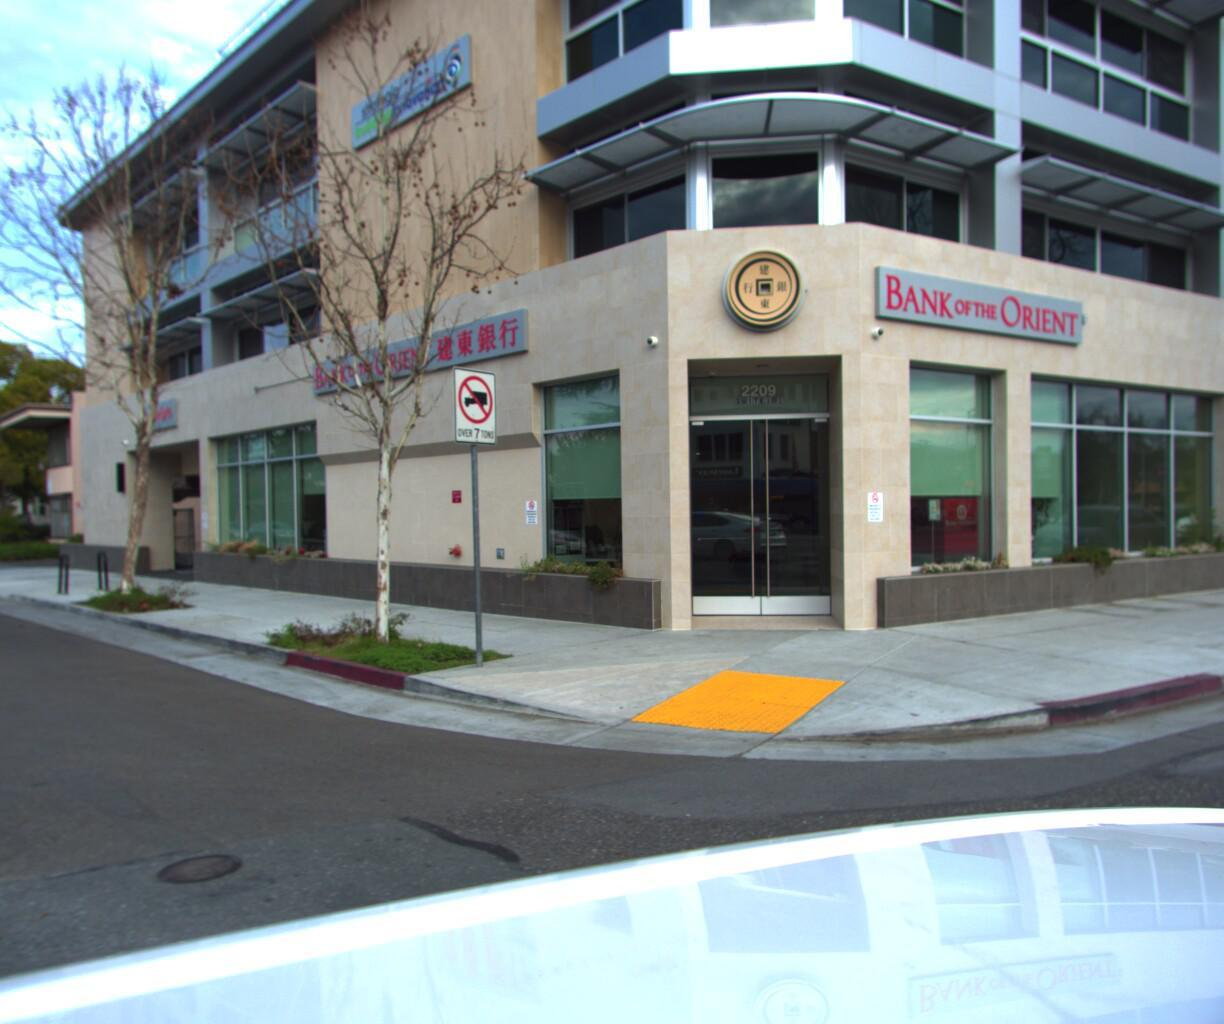car: (490, 514, 594, 553)
